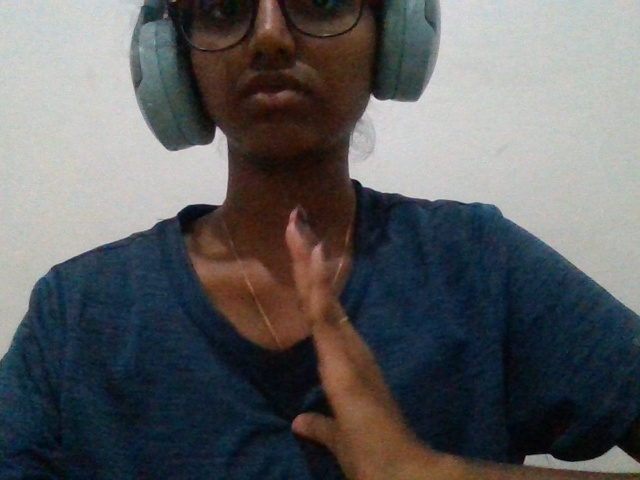Fine: (226, 171, 478, 480)
